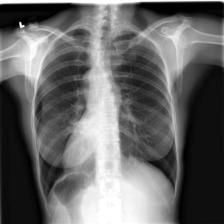normal: (33, 25, 180, 201)
